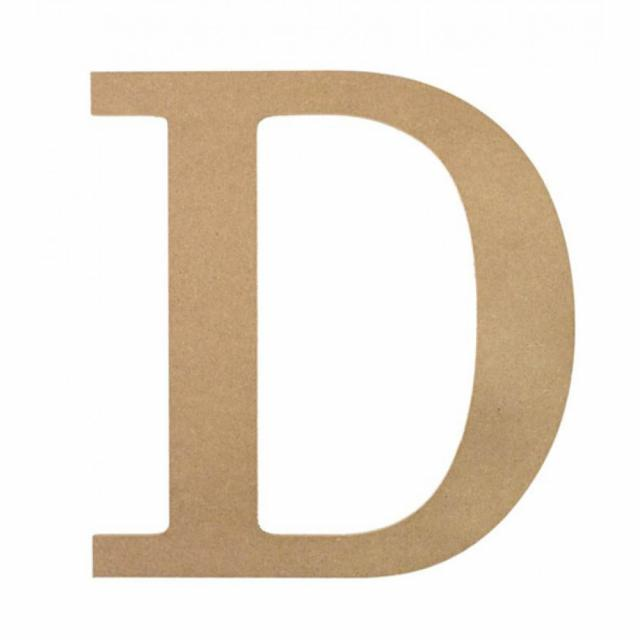D: (68, 42, 612, 607)
